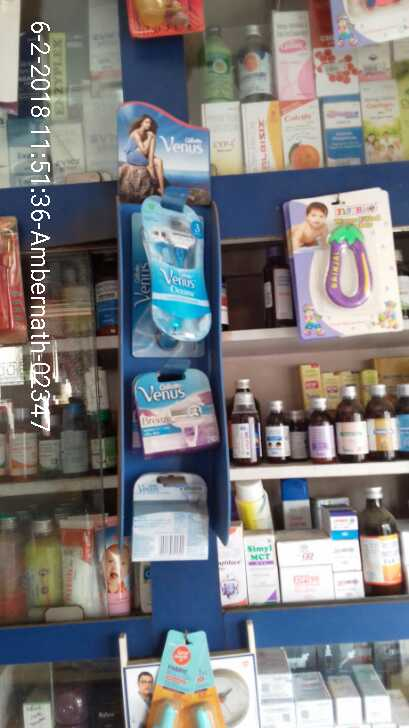venus: (133, 197, 210, 341), (130, 371, 227, 463)
